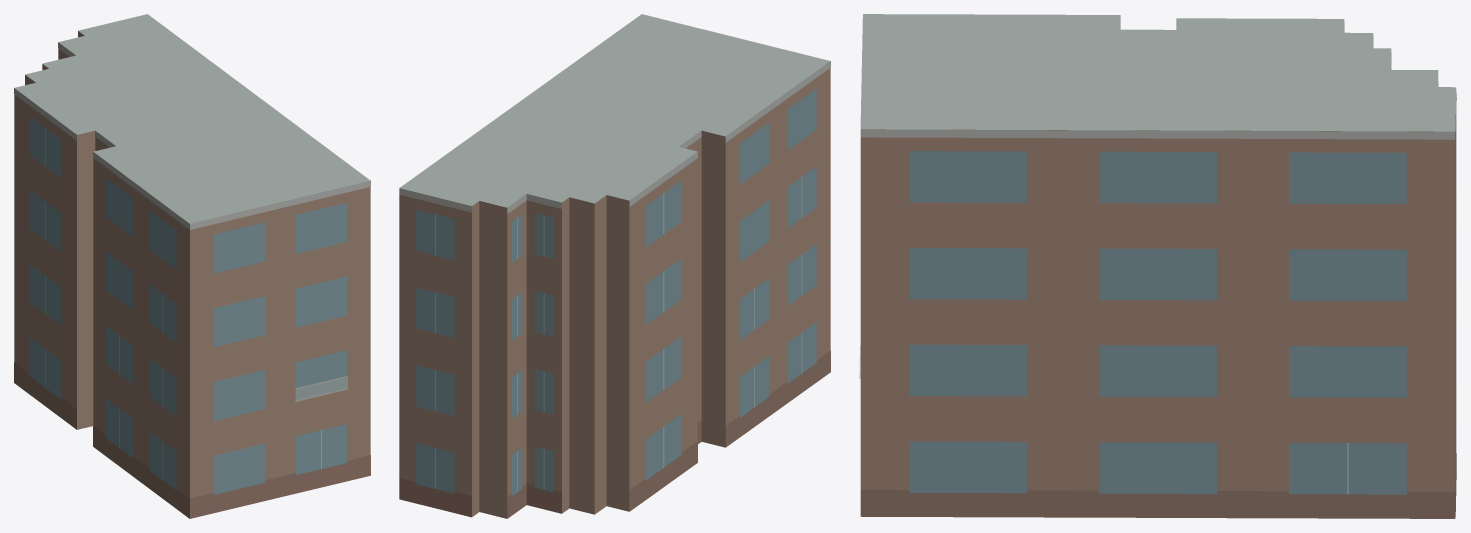
Rendered from survey-upis-32593076.glb.
3 renders of one model, left to right at view 1: azimuth 30°, elevation 25°; view 2: azimuth 150°, elevation 25°; view 3: azimuth 270°, elevation 25°, orthographic. The views are drawn at different scales.
Visible parts, largest first — view 1: survey-upis-32593076.tmp; view 2: survey-upis-32593076.tmp; view 3: survey-upis-32593076.tmp.
Part boxes in pixels (x1,y1,x2,y2): survey-upis-32593076.tmp: (14,14,370,518); survey-upis-32593076.tmp: (399,14,830,518); survey-upis-32593076.tmp: (859,14,1456,518).
Size of the model in its own units: 7.62 by 11.7 by 16.35.
